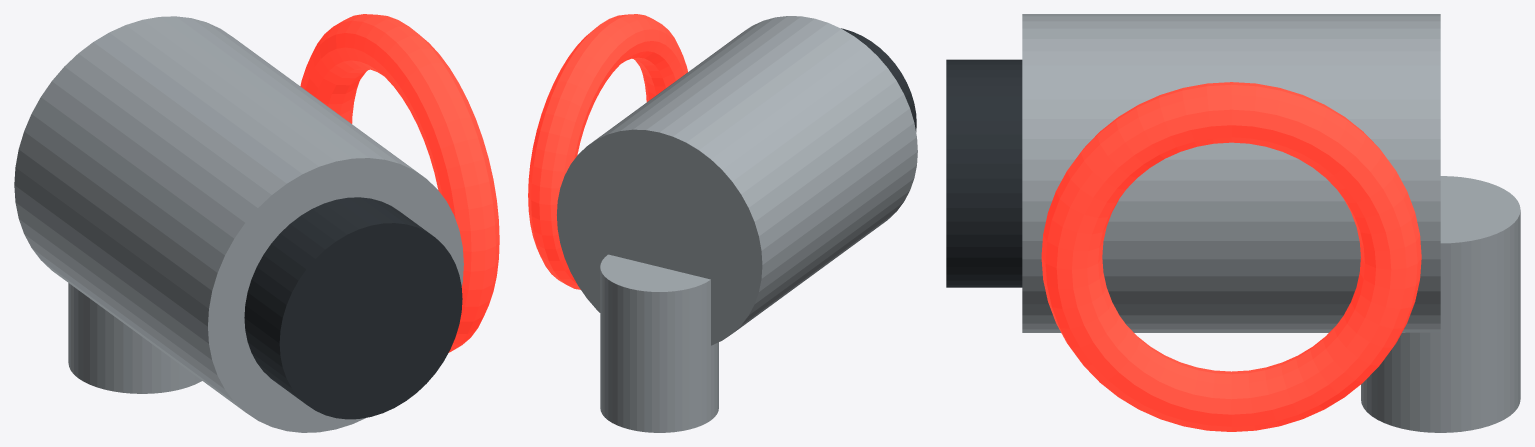
File: VALVE.glb
The picture shows the model from 3 angles, left to right: view 1: azimuth 30°, elevation 25°; view 2: azimuth 150°, elevation 25°; view 3: azimuth 270°, elevation 25°; orthographic projection. The views are drawn at different scales.
Parts seen in each view (by area): view 1: body, seat, handwheel, outlet; view 2: body, outlet, handwheel, seat; view 3: body, handwheel, outlet, seat.
Part boxes in pixels (<box>): body: <box>14,16,463,432</box>; seat: <box>244,197,462,419</box>; handwheel: <box>300,14,499,352</box>; outlet: <box>68,283,201,393</box>; body: <box>557,16,917,345</box>; outlet: <box>600,254,718,432</box>; handwheel: <box>528,14,687,289</box>; seat: <box>841,28,916,131</box>; body: <box>1022,14,1440,332</box>; handwheel: <box>1041,82,1421,431</box>; outlet: <box>1361,176,1520,432</box>; seat: <box>946,59,1022,287</box>.
Bounding box in the file's own units: 0.102 × 0.1155 × 0.151.
